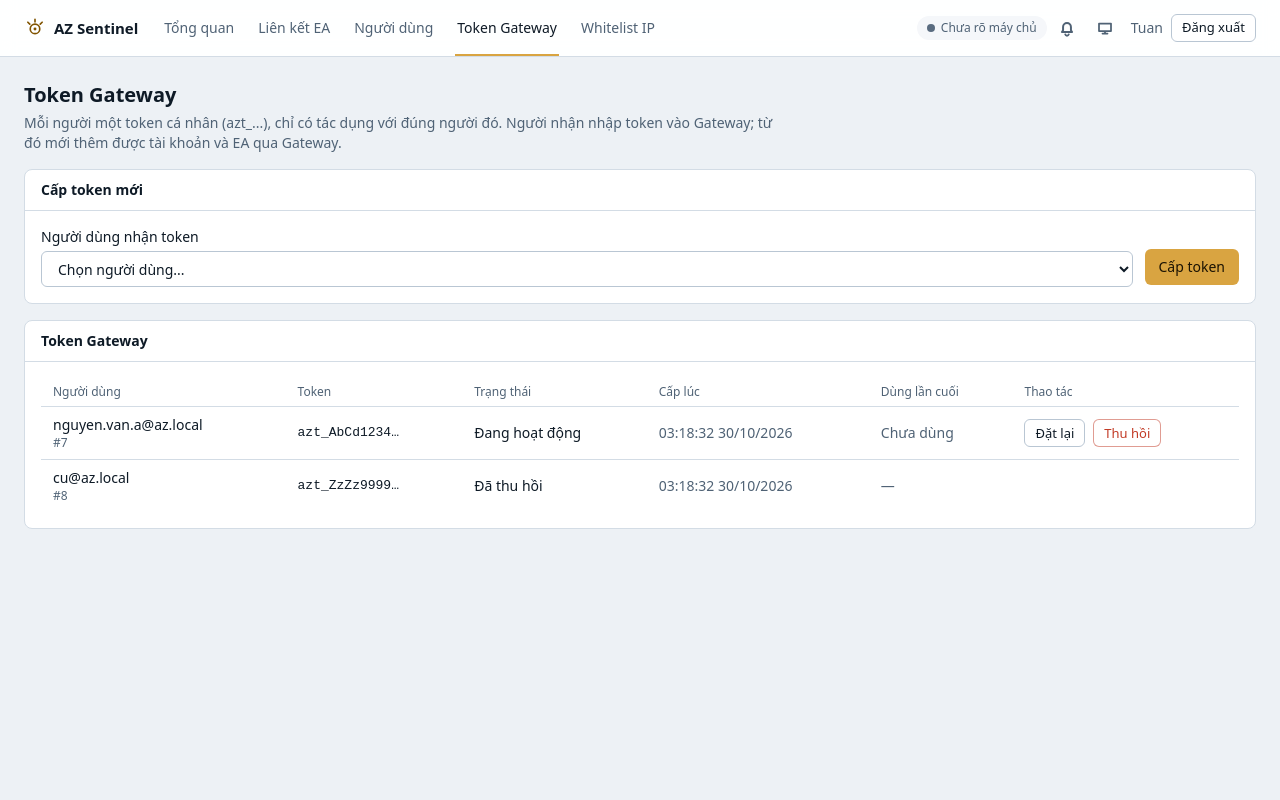
Test: trang Token Gateway (admin) › đặt lại token cũng trả mã kết nối mới
Click the button "Đặt lại". click: (1055, 433)
box: [1024,419,1085,447]
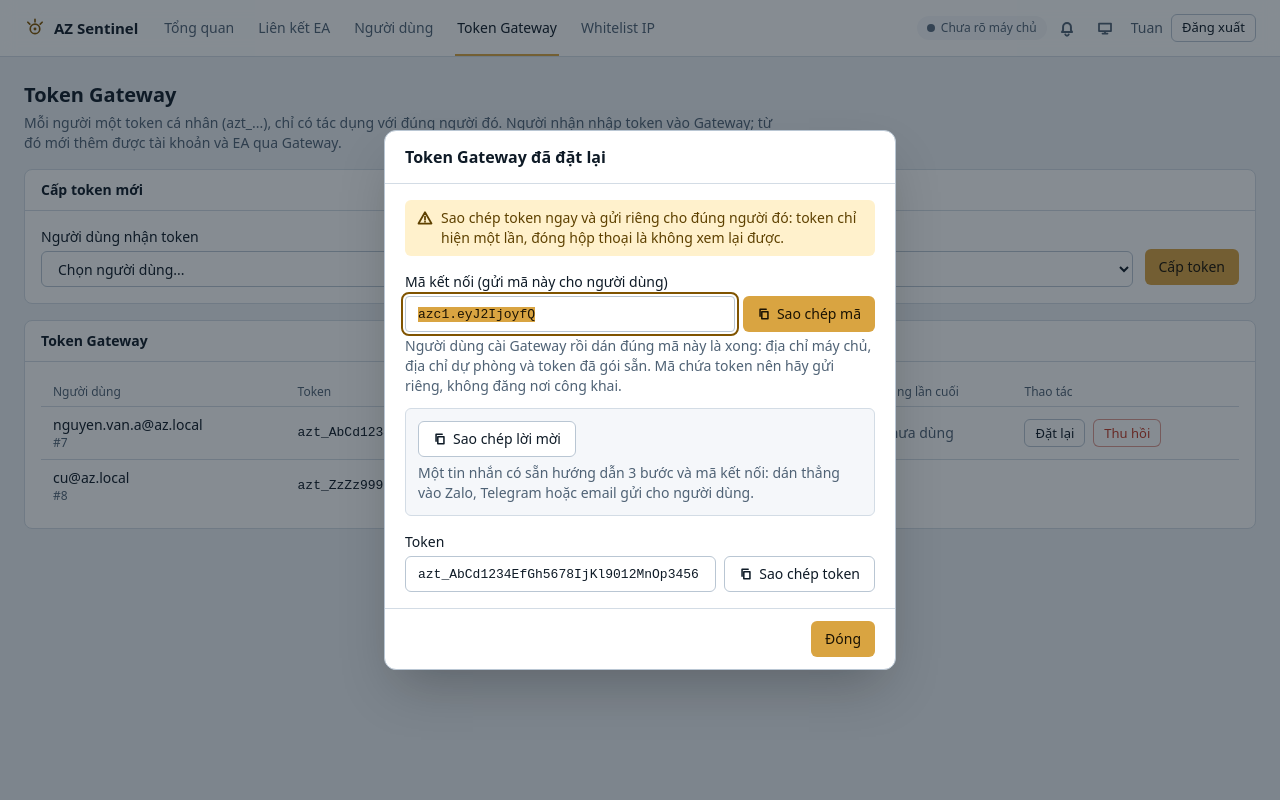
Result: the field labelled "Mã kết nối (gửi mã này cho người dùng)" holds "azc1.eyJ2IjoyfQ" at [405,296,735,332]
